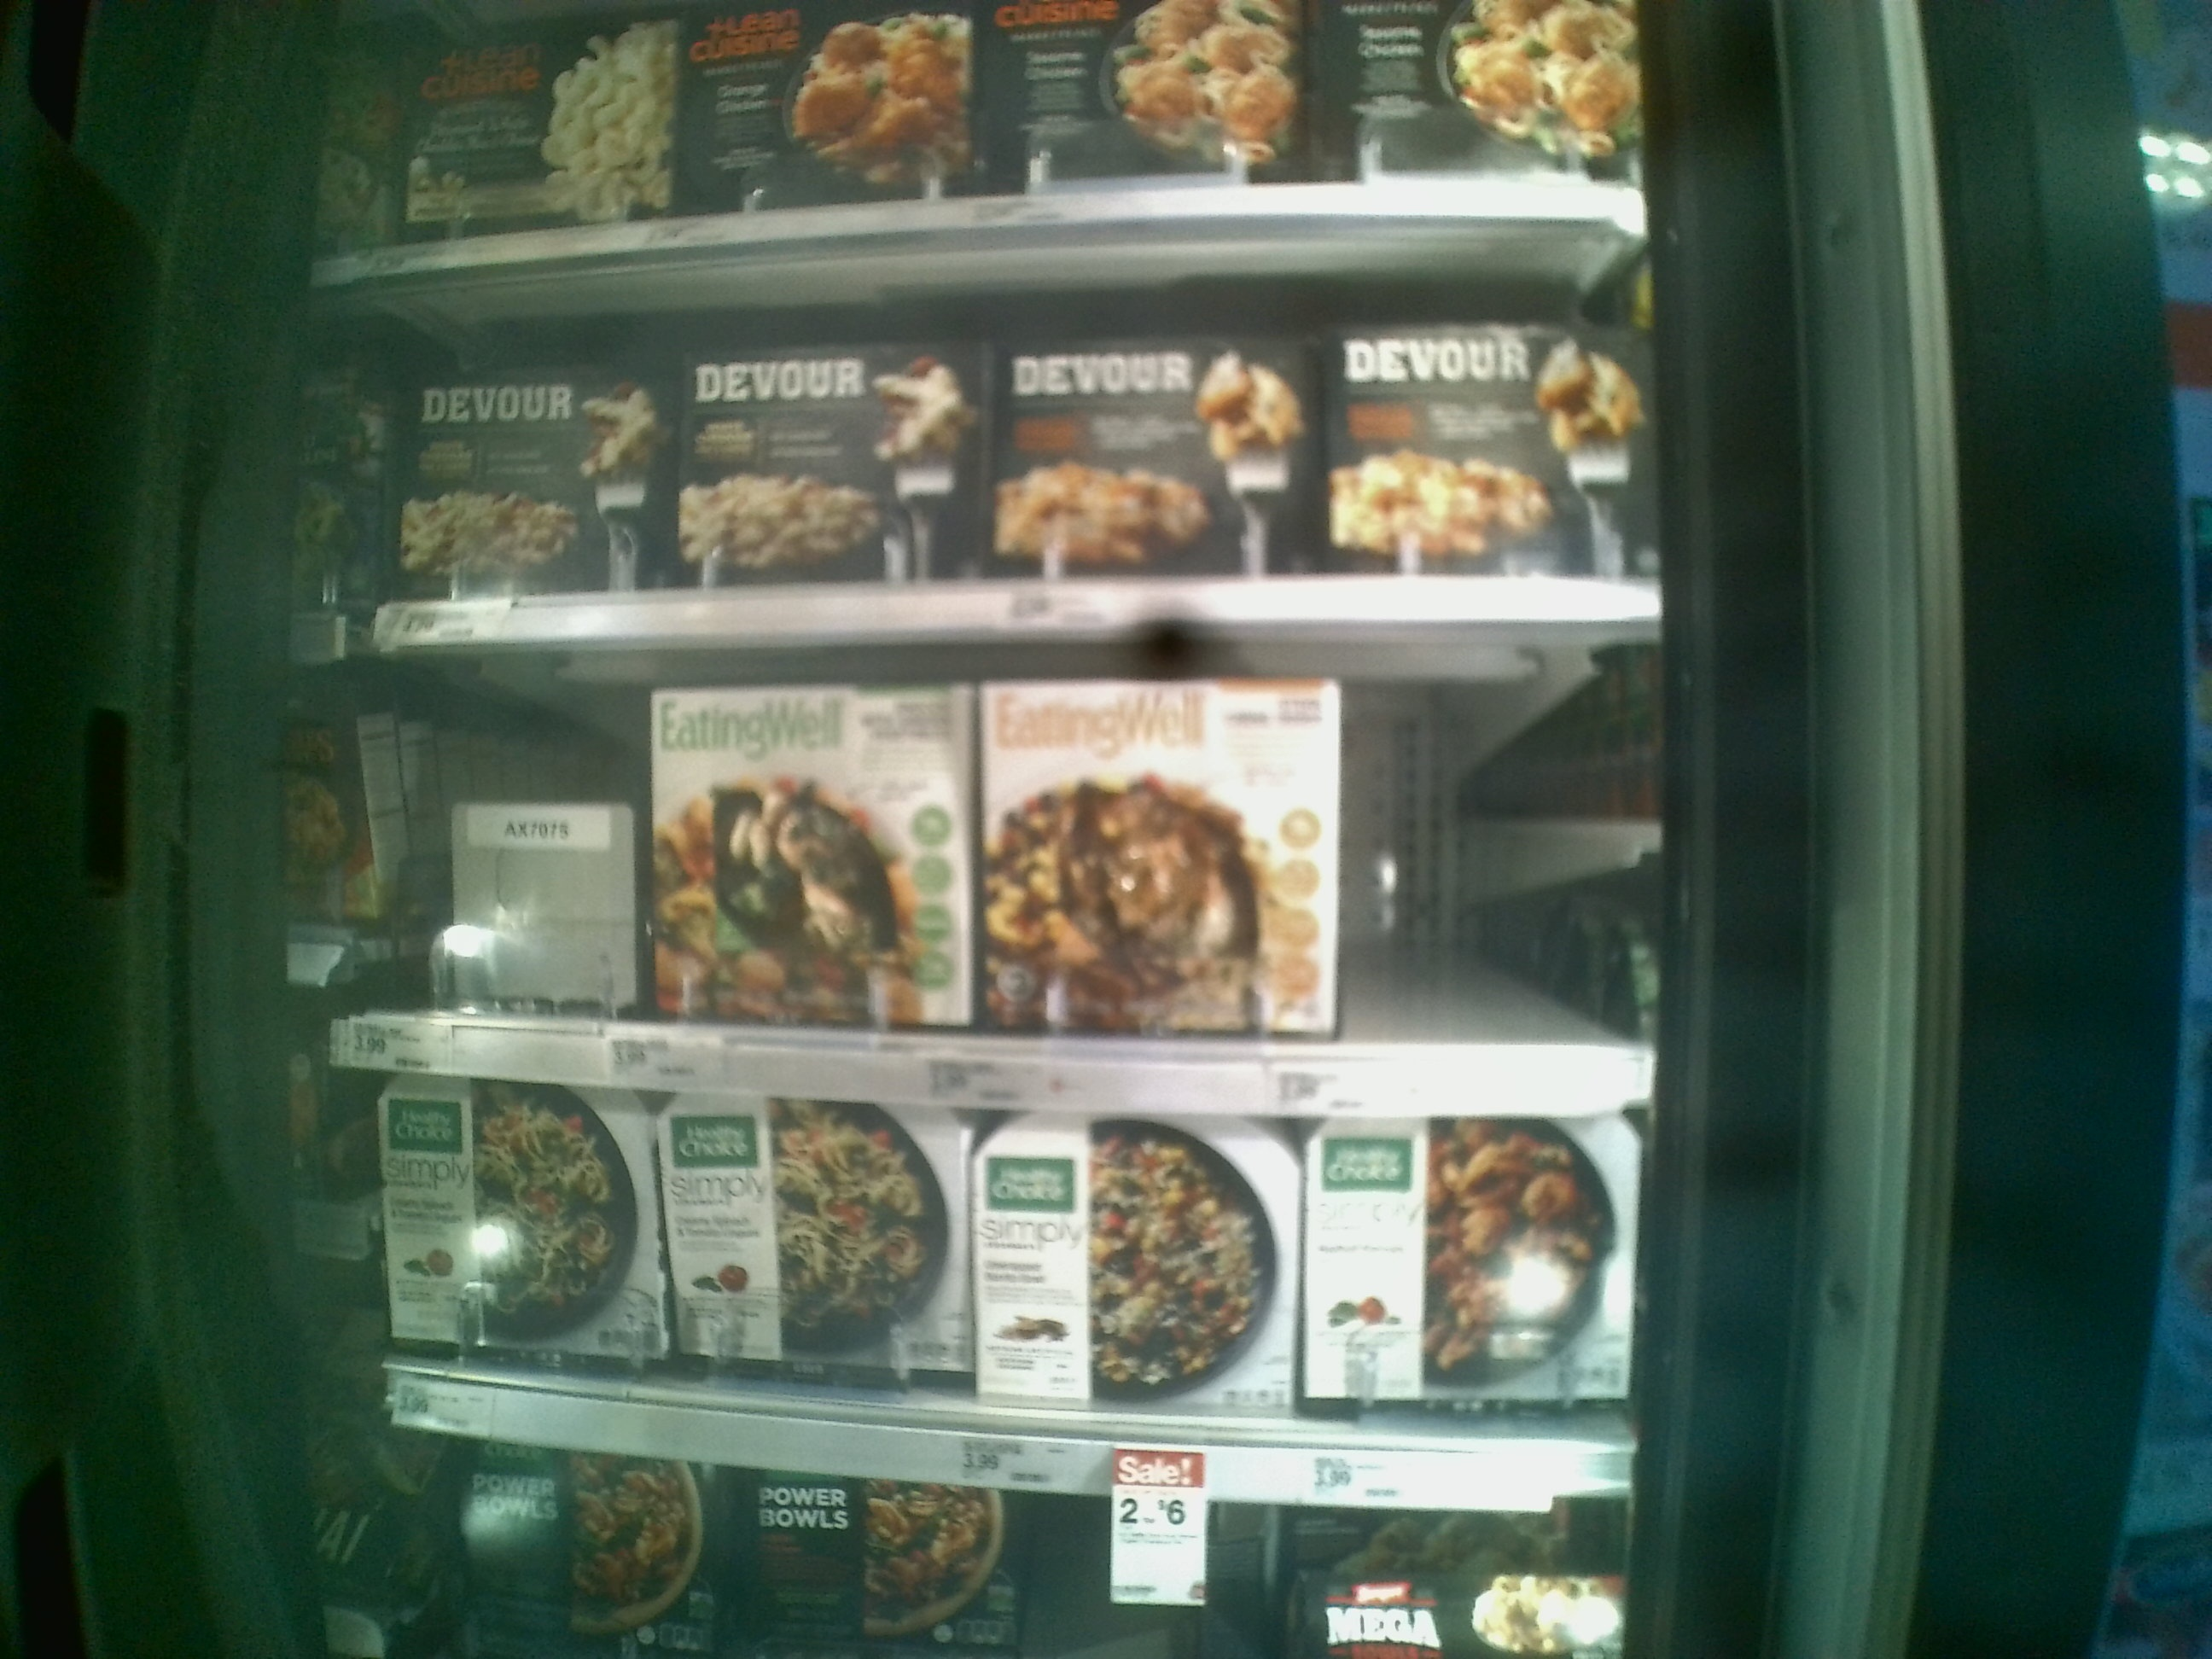pizza: (981, 669, 1350, 1035), (651, 678, 968, 1025), (981, 1110, 1299, 1417), (1296, 1121, 1623, 1419), (667, 1100, 963, 1387), (1325, 324, 1658, 572), (371, 1094, 664, 1359), (1000, 345, 1315, 575), (676, 342, 977, 575), (688, 5, 974, 207), (395, 364, 658, 582), (390, 19, 667, 221), (733, 1481, 1026, 1654), (465, 1450, 698, 1657)
